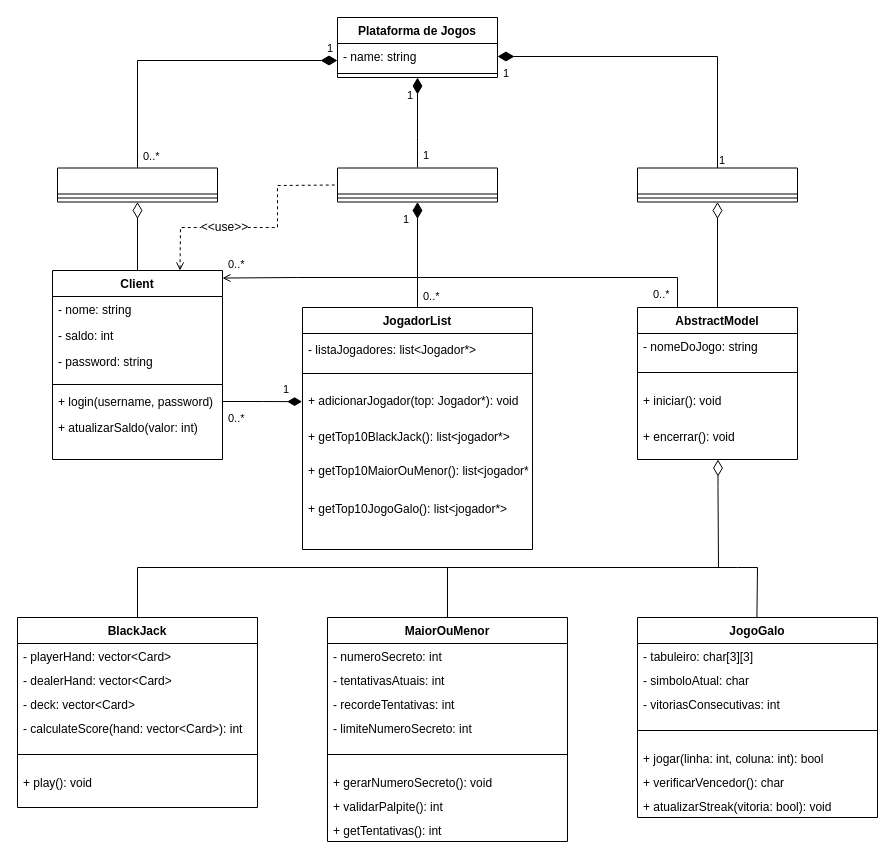
Some shapes in this 895 by 862 pixel diagram are drawn without their labels. Each missing label, with the centre of its shape:
Jogador: (137,184)
Jogo: (717,184)
Ranking: (417,184)
